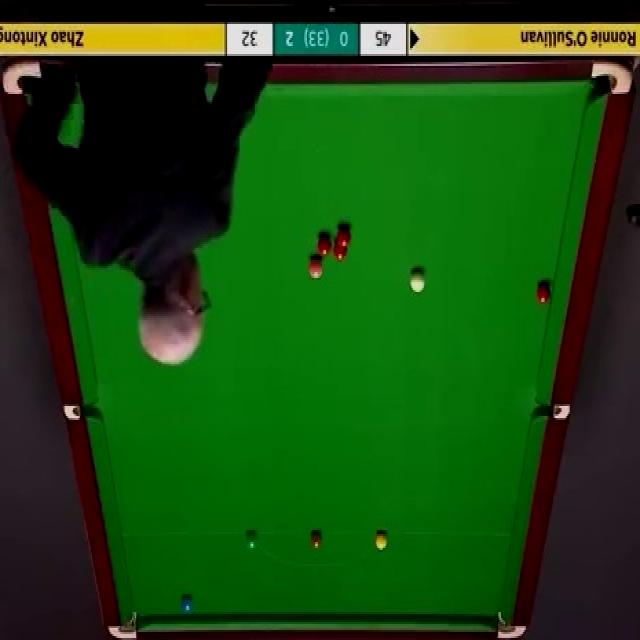blue-ball: (181, 596, 194, 613)
brown-ball: (309, 530, 324, 552)
green-ball: (245, 530, 260, 550)
pink-ball: (308, 256, 324, 280)
red-ball: (336, 223, 354, 248), (535, 282, 552, 304), (316, 234, 332, 257), (332, 241, 347, 262)
white-ball: (410, 268, 428, 296)
yellow-ball: (375, 531, 388, 552)
